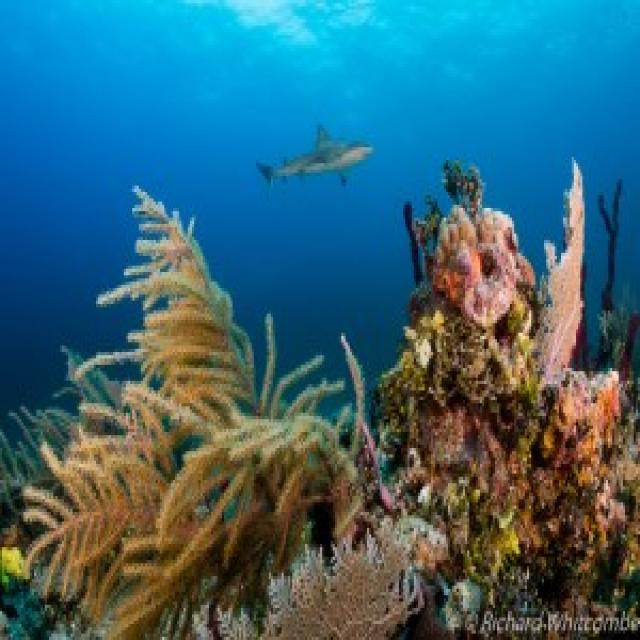Coral: (21, 184, 358, 640), (190, 514, 424, 640), (535, 156, 587, 385), (432, 202, 520, 328)
